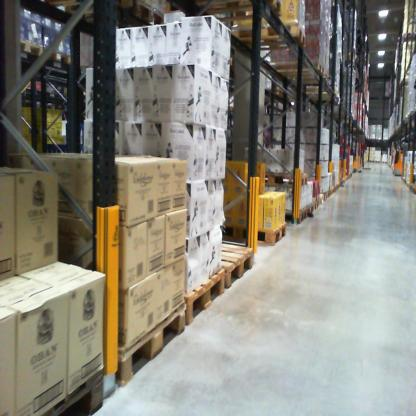pallet: (114, 290, 196, 390), (182, 264, 233, 337), (214, 229, 258, 304), (46, 368, 116, 411), (61, 6, 171, 32), (212, 215, 289, 248), (221, 25, 310, 53), (191, 2, 291, 25), (273, 61, 325, 80), (16, 36, 43, 67), (43, 42, 74, 67), (262, 172, 311, 187), (301, 86, 344, 102), (283, 71, 333, 84), (281, 206, 308, 228), (53, 85, 77, 101), (311, 198, 320, 212), (307, 203, 314, 220), (319, 193, 324, 206)
pallet_truck: (390, 125, 405, 180)
